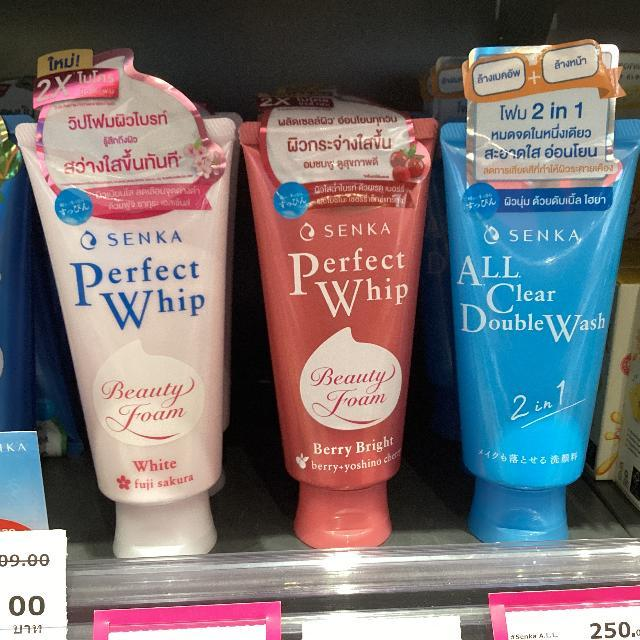Squeeze Tube: (8, 54, 633, 574), (13, 118, 246, 572), (232, 114, 437, 544), (443, 126, 637, 564)
